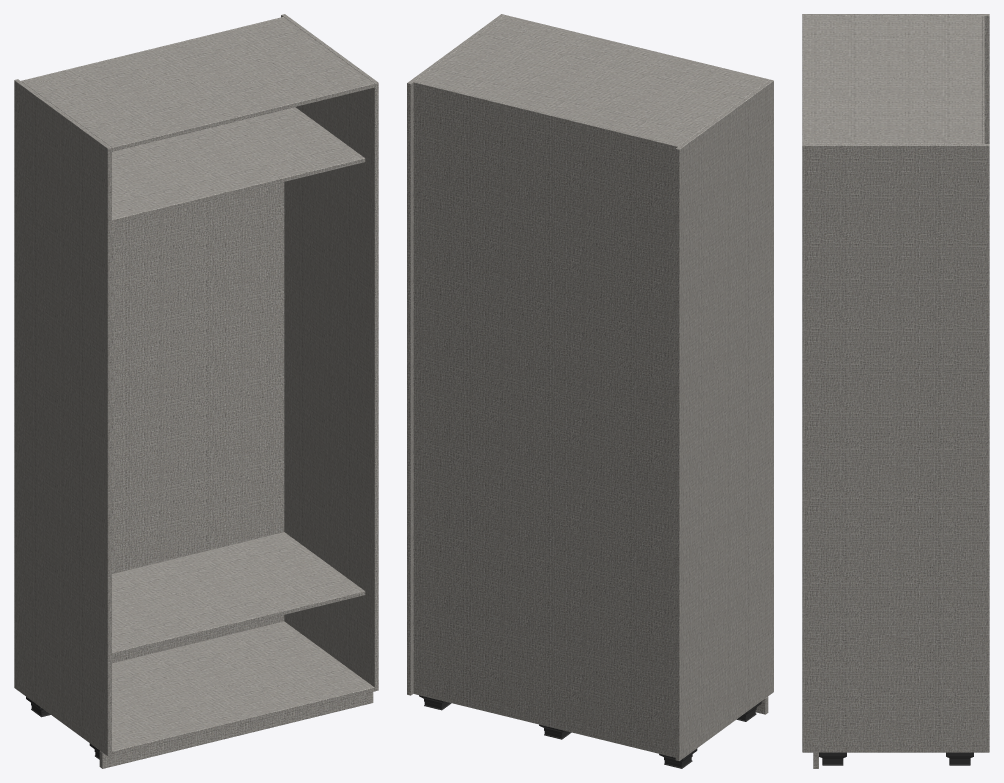
File: cbib12127.gltf
3 renders of one model, left to right at view 1: azimuth 30°, elevation 25°; view 2: azimuth 150°, elevation 25°; view 3: azimuth 270°, elevation 25°, orthographic.
Visible parts, largest first — view 1: CBIB12127; view 2: CBIB12127; view 3: CBIB12127.
Boxes of the visible parts, bbox=[...] form: CBIB12127: bbox=[14, 14, 378, 768]; CBIB12127: bbox=[407, 14, 773, 768]; CBIB12127: bbox=[802, 14, 989, 768].
Size of the model in its own units: 1 by 2.2 by 0.6.
Materials: 3 (2 with a texture image).
